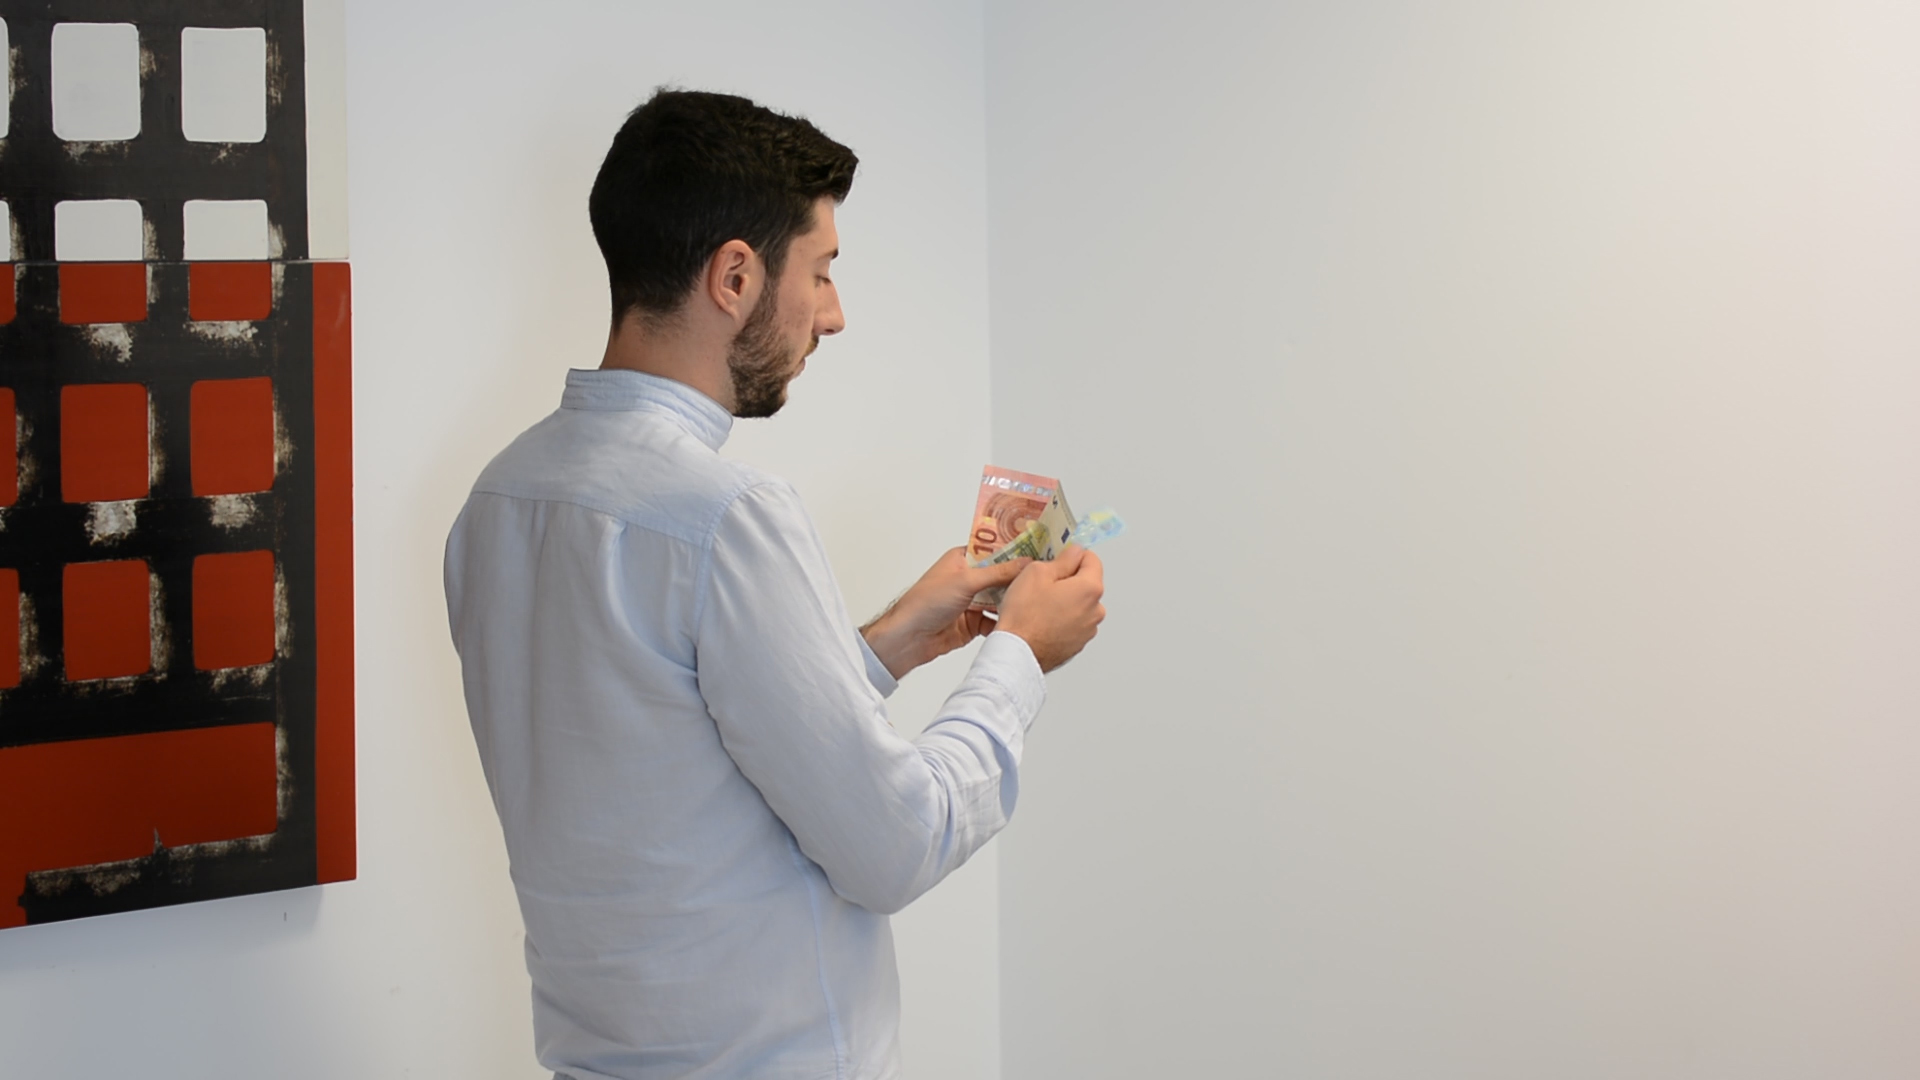billete: (960, 464, 1124, 613)
